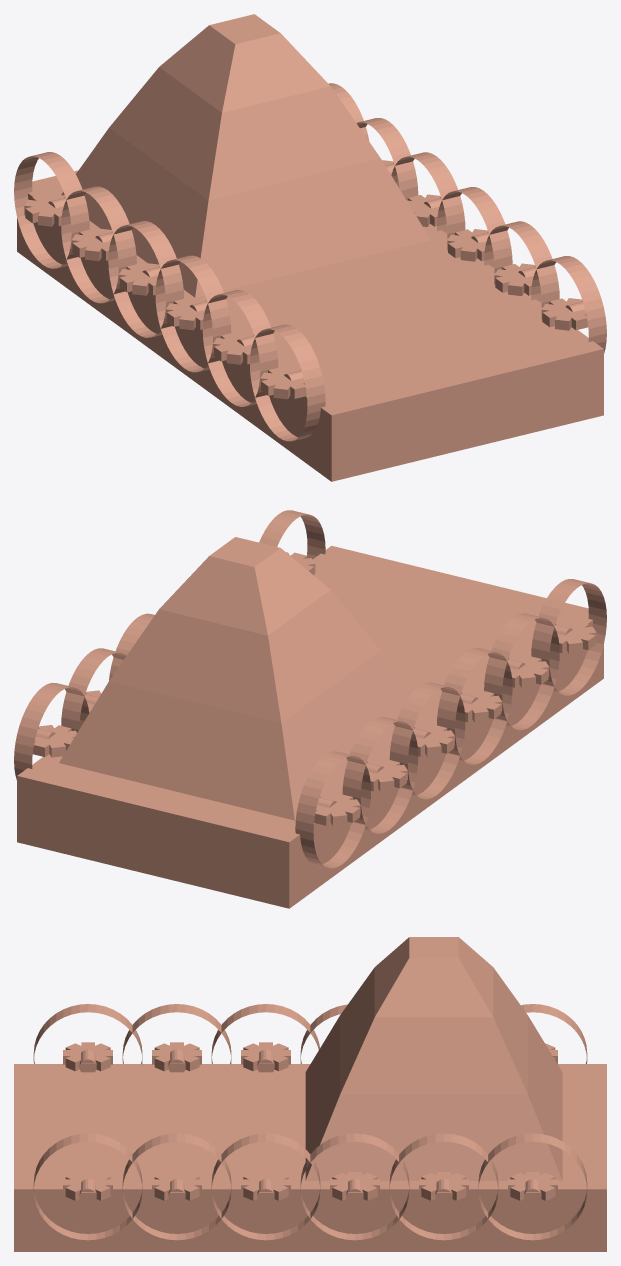
Rendered from sun_temple_s3.glb.
The picture shows the model from 3 angles, top to bottom: view 1: azimuth 30°, elevation 25°; view 2: azimuth 150°, elevation 25°; view 3: azimuth 270°, elevation 25°; orthographic projection. The views are drawn at different scales.
Visible parts, largest first — view 1: sun_temple; view 2: sun_temple; view 3: sun_temple.
Boxes of the visible parts, x1,y1,x2,y2 form: sun_temple: (14,14,606,481); sun_temple: (14,510,606,908); sun_temple: (14,937,606,1251).
Bounding box in the file's own units: 13.36 × 10 × 22.22.
